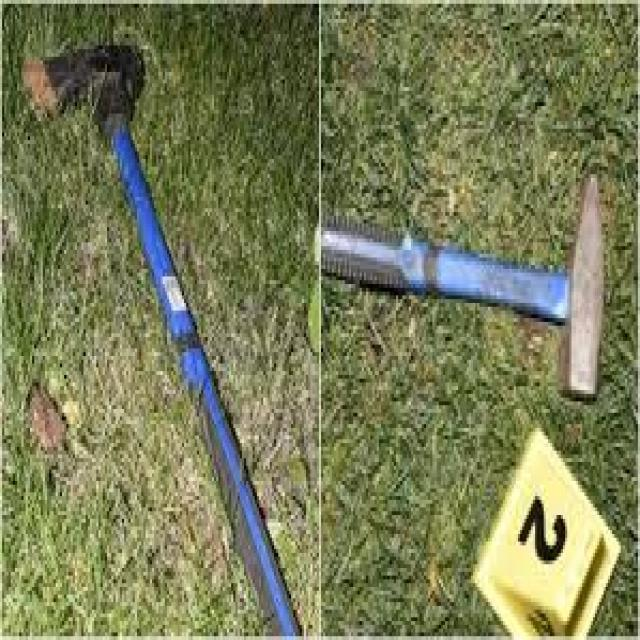hammer: (320, 166, 611, 412)
